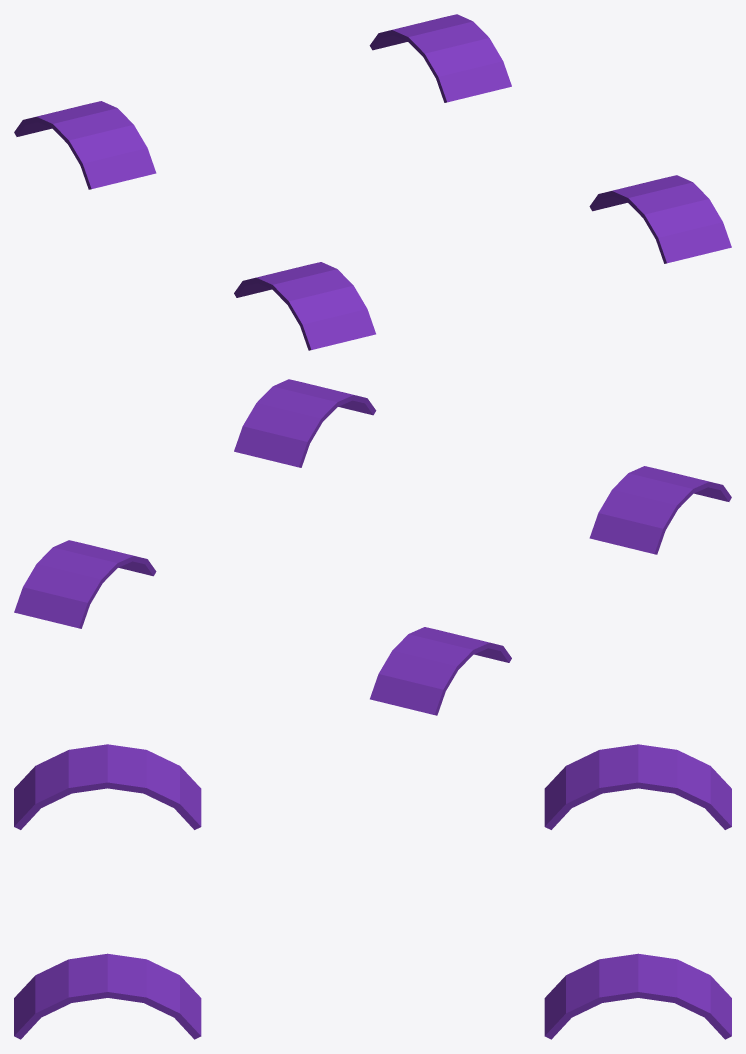
The model's file is wheelGuards1.glb.
The picture shows the model from 3 angles, top to bottom: view 1: azimuth 30°, elevation 25°; view 2: azimuth 150°, elevation 25°; view 3: azimuth 270°, elevation 25°; orthographic projection. The views are drawn at different scales.
Visible parts, largest first — view 1: back-right-tire.001; view 2: back-right-tire.001; view 3: back-right-tire.001.
Part boxes in pixels (x1=…): back-right-tire.001: x1=14, y1=14, x2=731, y2=350; back-right-tire.001: x1=14, y1=379, x2=731, y2=715; back-right-tire.001: x1=14, y1=744, x2=731, y2=1039.
Size of the model in its own units: 2.84 by 0.255 by 3.48.
1 material, 1 textured.
